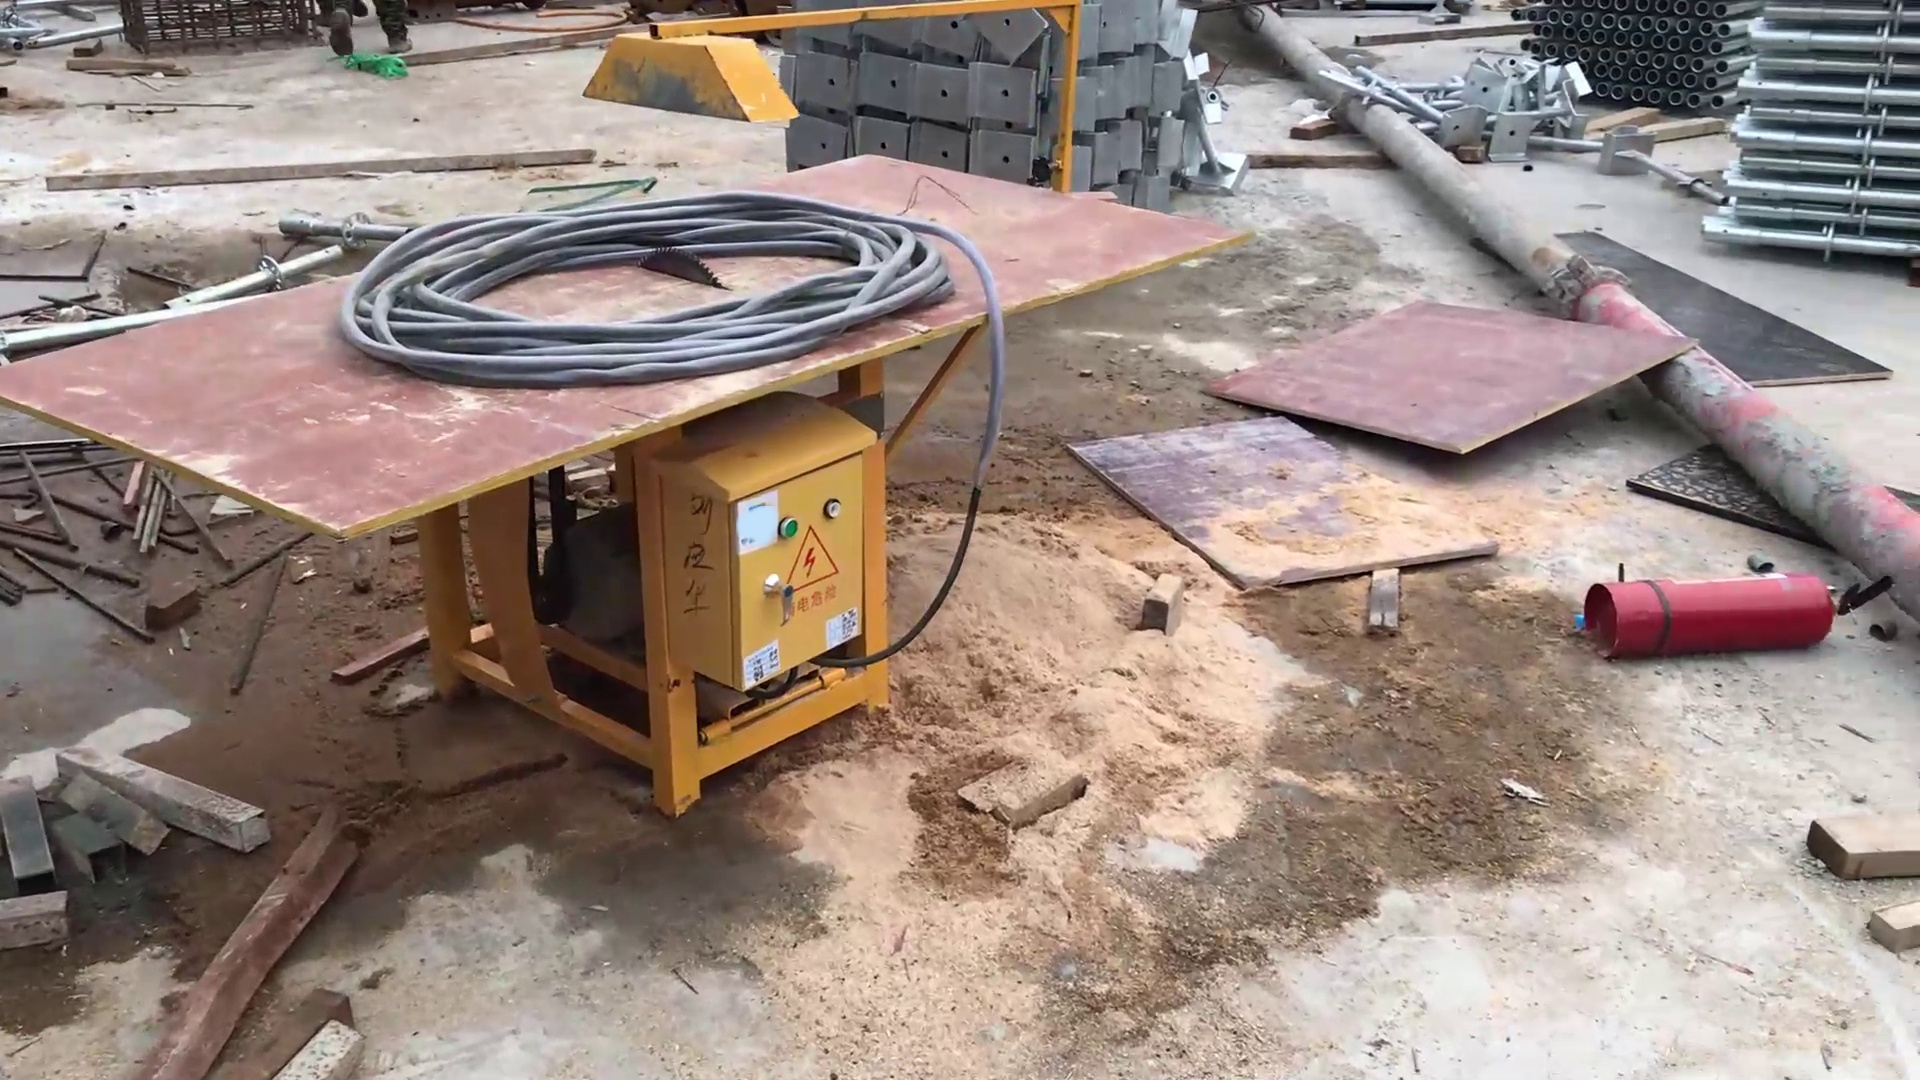board: (1208, 255, 1716, 473), (1052, 407, 1501, 609)
cutter: (7, 149, 1255, 829)
ebox: (640, 393, 880, 702)
scaffold: (765, 1, 1218, 211), (1702, 7, 1920, 276), (1524, 1, 1730, 124)
